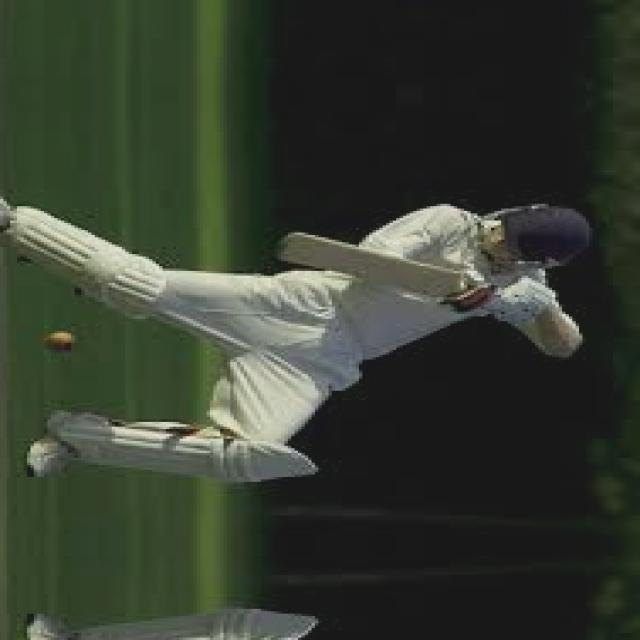bat: (265, 210, 465, 308)
toe: (272, 234, 294, 257)
